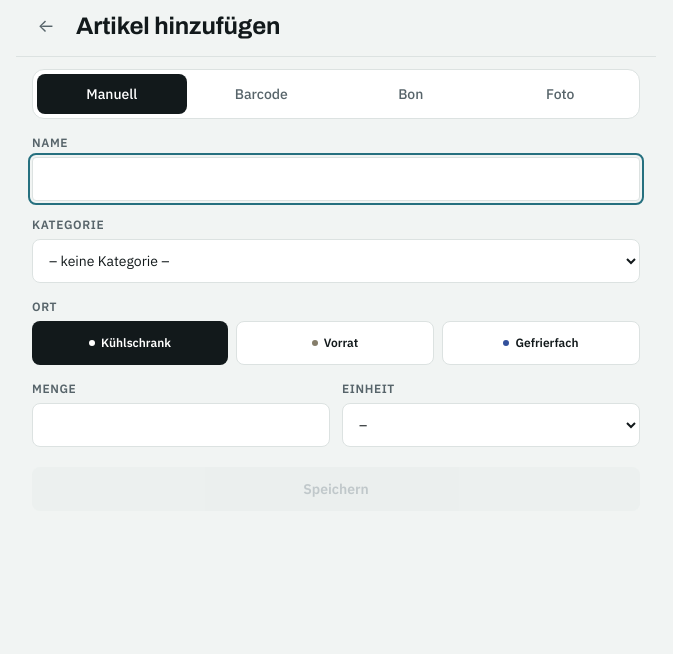
Test case: AddItem — manual entry › reports a failed save and stays on the page
In the field labelled "Name": (336, 179) [32,157,640,201], type "Butter"
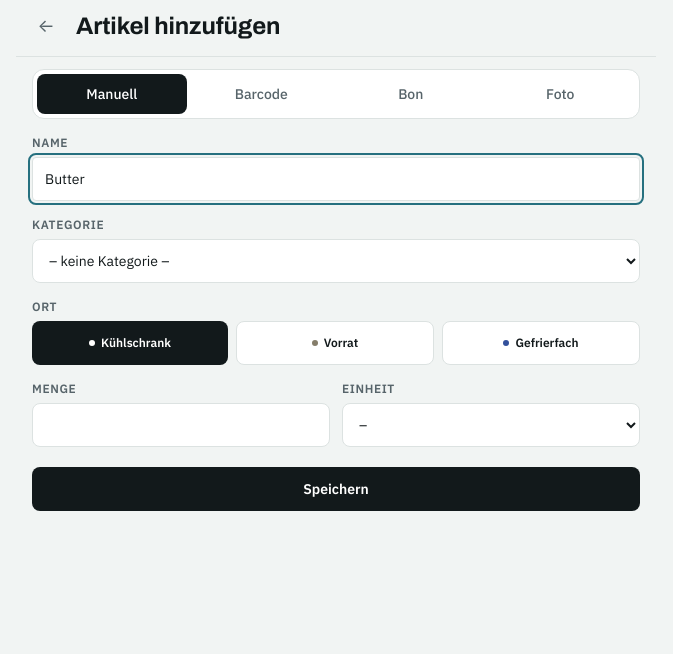
Click the button "Speichern": (336, 489) [32,467,640,511]
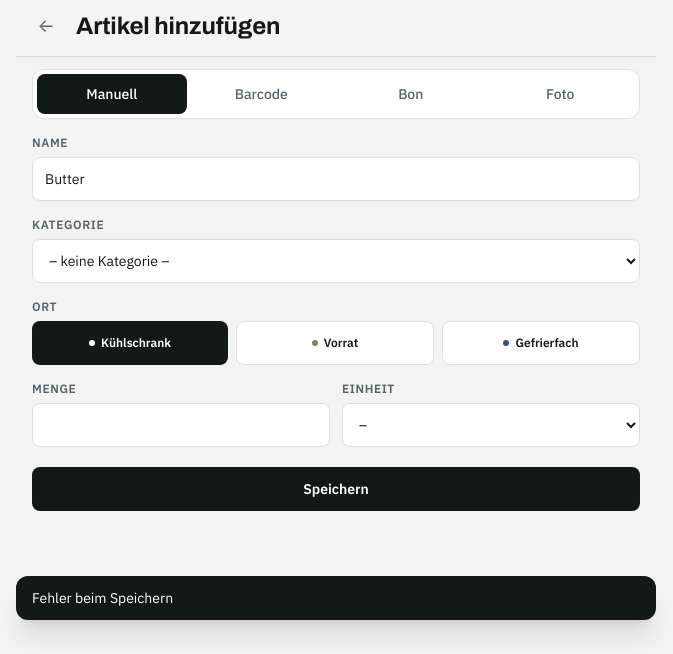
Result: the message reads "Fehler beim Speichern" at [32,589,173,607]
